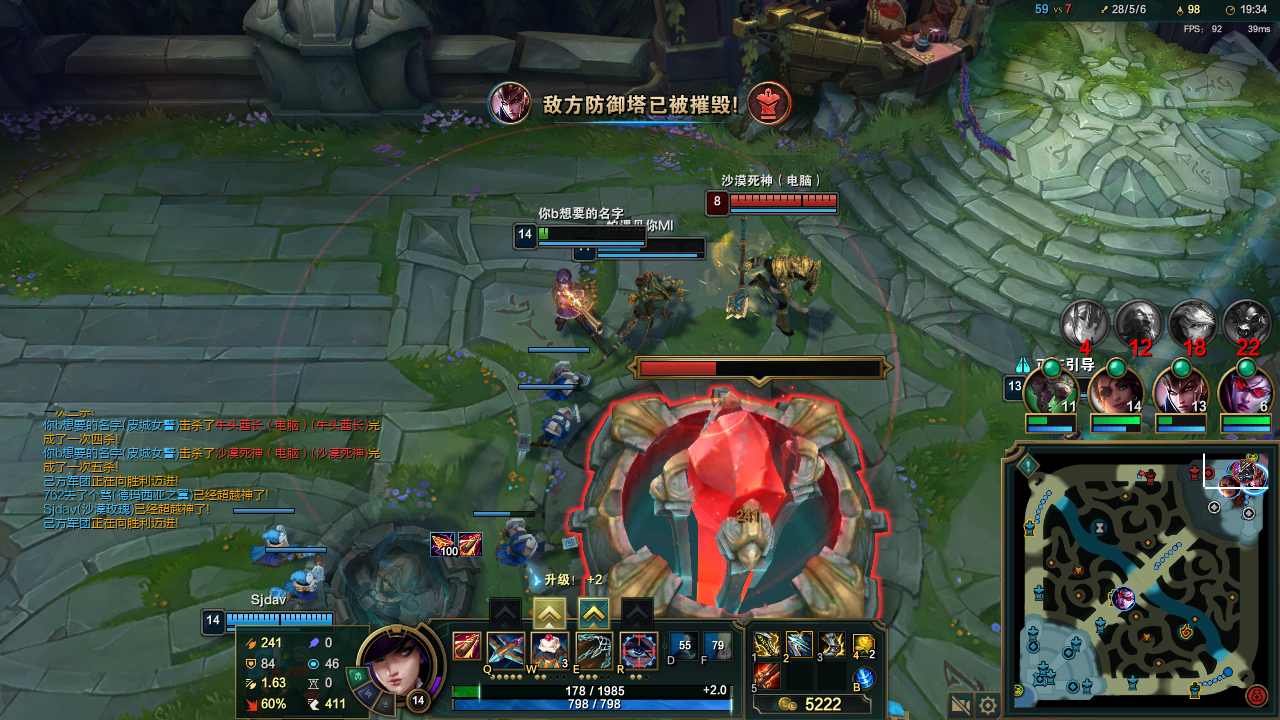DFDSJ: (602, 358, 853, 578)
DFYX: (722, 196, 838, 206)
Shenji: (582, 605, 608, 625)
Tuijianshengji: (532, 604, 563, 630)
WFXB: (256, 536, 314, 570), (495, 521, 541, 562), (539, 405, 576, 441), (288, 568, 328, 600), (545, 372, 584, 391)
